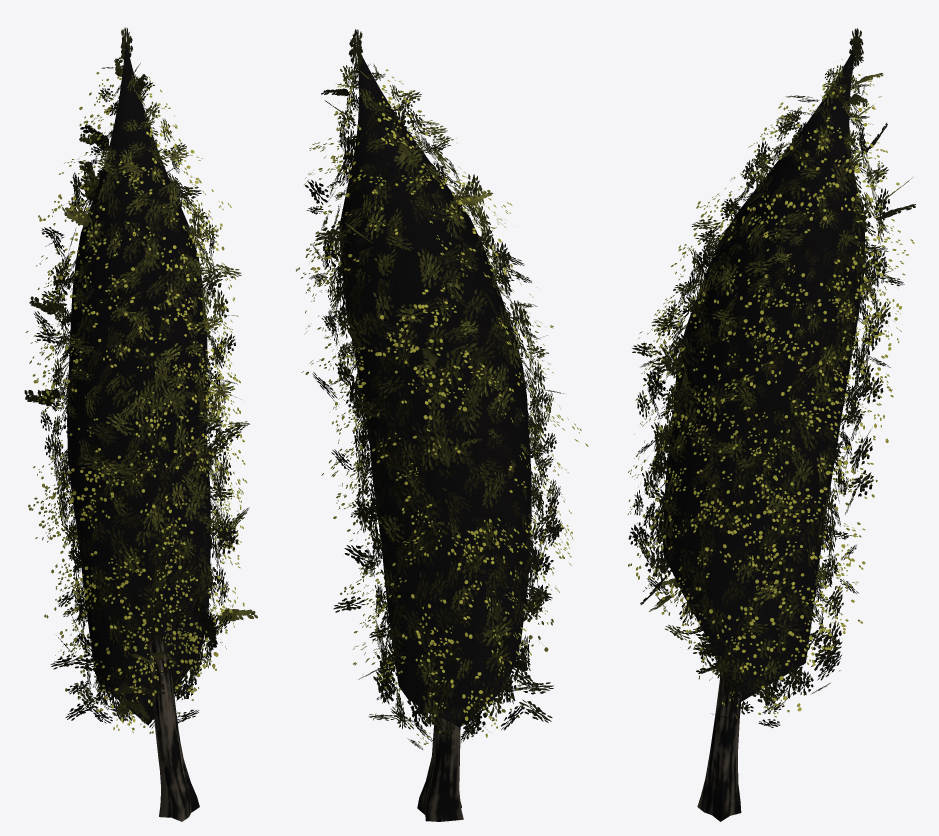
File: CreTree03.glb
3 views of the same model, side by side, from view 1: azimuth 30°, elevation 25°; view 2: azimuth 150°, elevation 25°; view 3: azimuth 270°, elevation 25° (orthographic). The views are drawn at different scales.
Parts seen in each view (by area): view 1: CreTree03_leaves; view 2: CreTree03_leaves; view 3: CreTree03_leaves.
Part boxes in pixels (bbox=[...]): CreTree03_leaves: bbox=[24, 27, 257, 821]; CreTree03_leaves: bbox=[295, 29, 588, 821]; CreTree03_leaves: bbox=[627, 28, 915, 821].
Bounding box in the file's own units: 3.45 × 11.65 × 4.04.
Materials: 3 (2 with a texture image).
